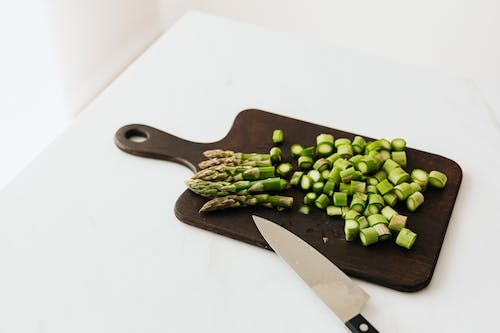knife: (251, 213, 382, 333)
